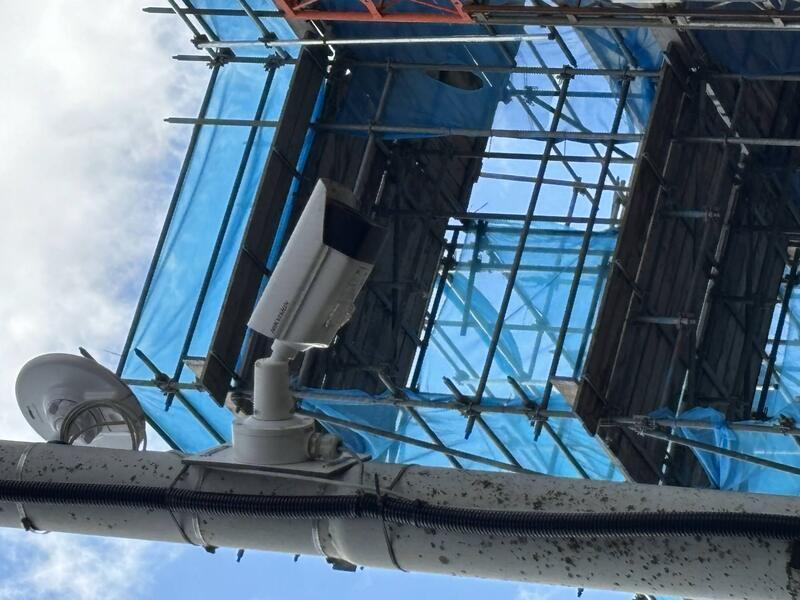bullet: (237, 222, 430, 399)
